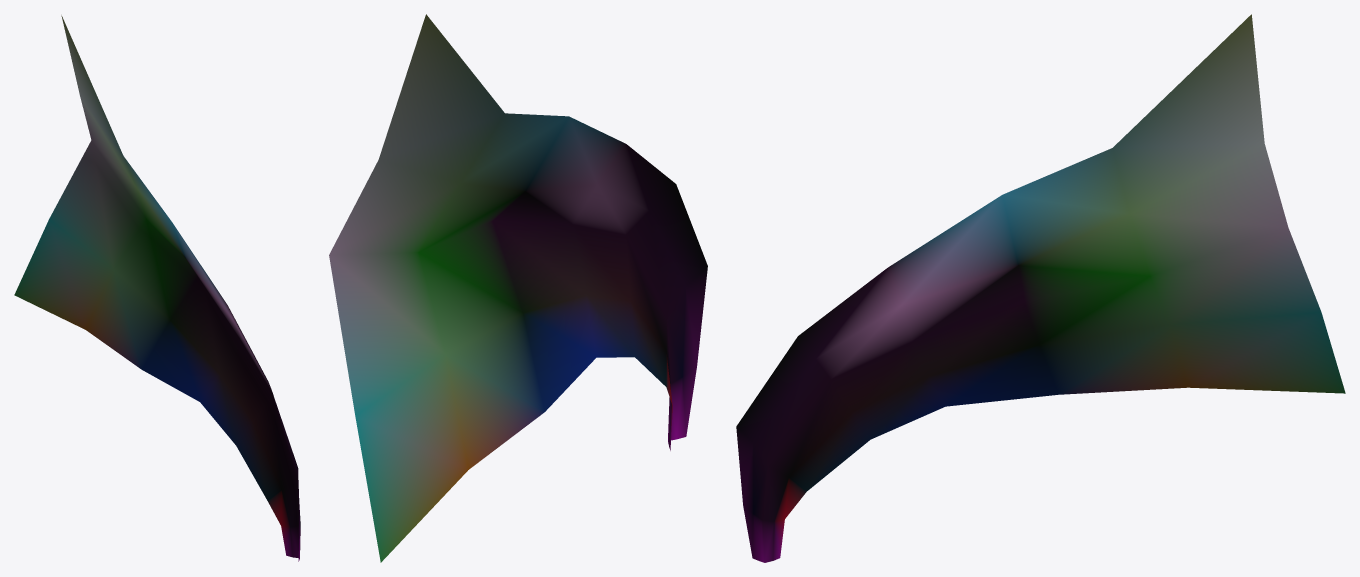
File: SM_Smoke_02.gltf
The picture shows the model from 3 angles, left to right: view 1: azimuth 30°, elevation 25°; view 2: azimuth 150°, elevation 25°; view 3: azimuth 270°, elevation 25°; orthographic projection. The views are drawn at different scales.
Visible parts, largest first — view 1: SM_Smoke_02; view 2: SM_Smoke_02; view 3: SM_Smoke_02.
Boxes of the visible parts, x1=… form: SM_Smoke_02: x1=14, y1=15, x2=300, y2=561; SM_Smoke_02: x1=329, y1=14, x2=707, y2=562; SM_Smoke_02: x1=736, y1=14, x2=1345, y2=562.
Size of the model in its own units: 0.4498 by 3.03 by 3.2.
